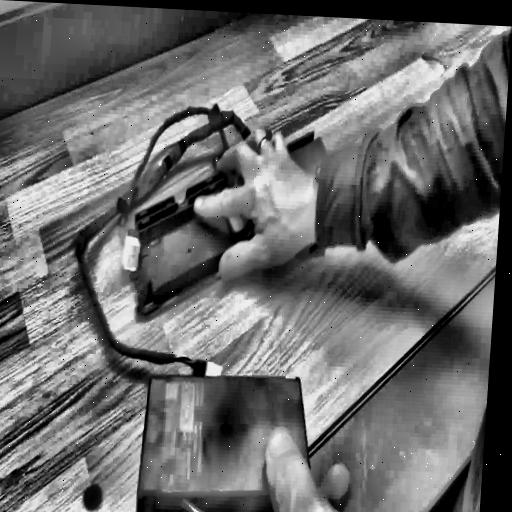high_volt_cable: (60, 97, 291, 399)
